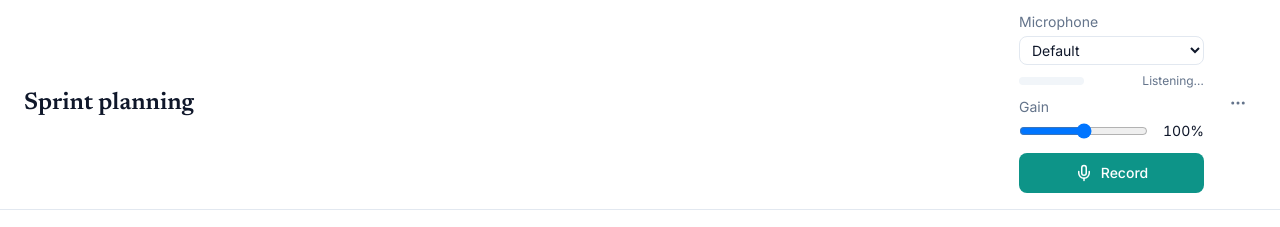
it: NoteHeader › shows an inline error when updateTitle rejects and keeps the typed value
Replace the text in the field named "Note title" with "Draft title" at {"x": 514, "y": 102}, box x1=24 y1=86 x2=1003 y2=118
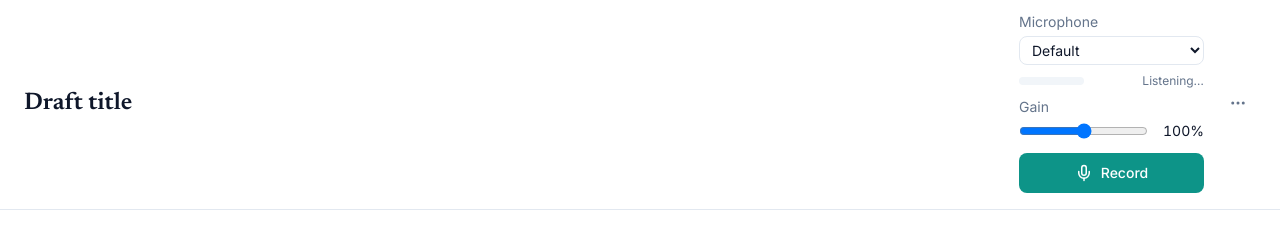
Leave the field named "Note title", box x1=24 y1=86 x2=1003 y2=118
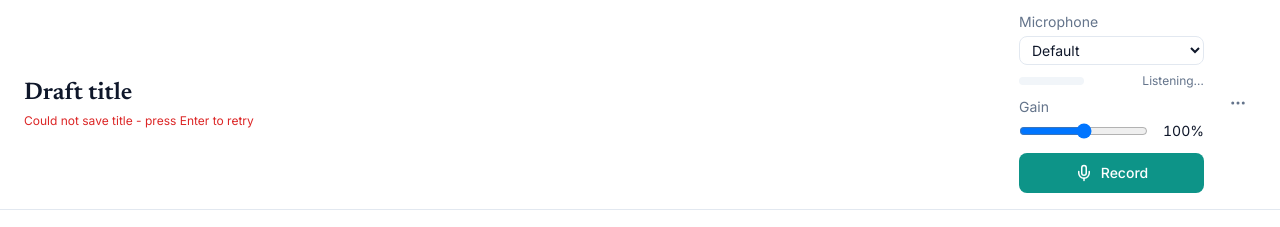
Expected: the message shows "Could not save title", x1=24 y1=112 x2=254 y2=128
